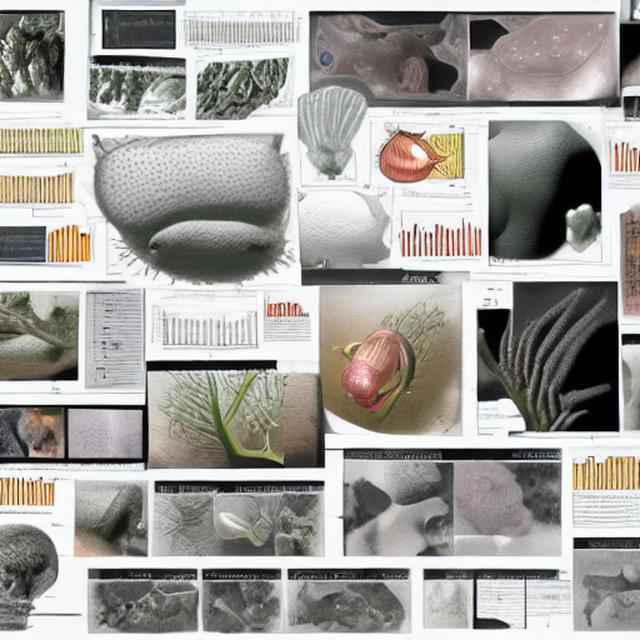Graph: (147, 292, 262, 357), (392, 208, 485, 265), (111, 9, 176, 50)
